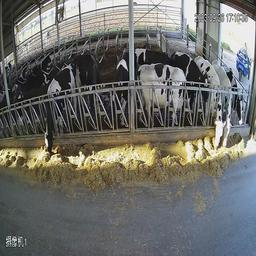cow: (38, 56, 76, 168), (138, 60, 194, 136), (192, 42, 225, 160), (213, 55, 238, 157), (82, 45, 105, 122), (111, 39, 130, 127), (226, 65, 249, 135)
